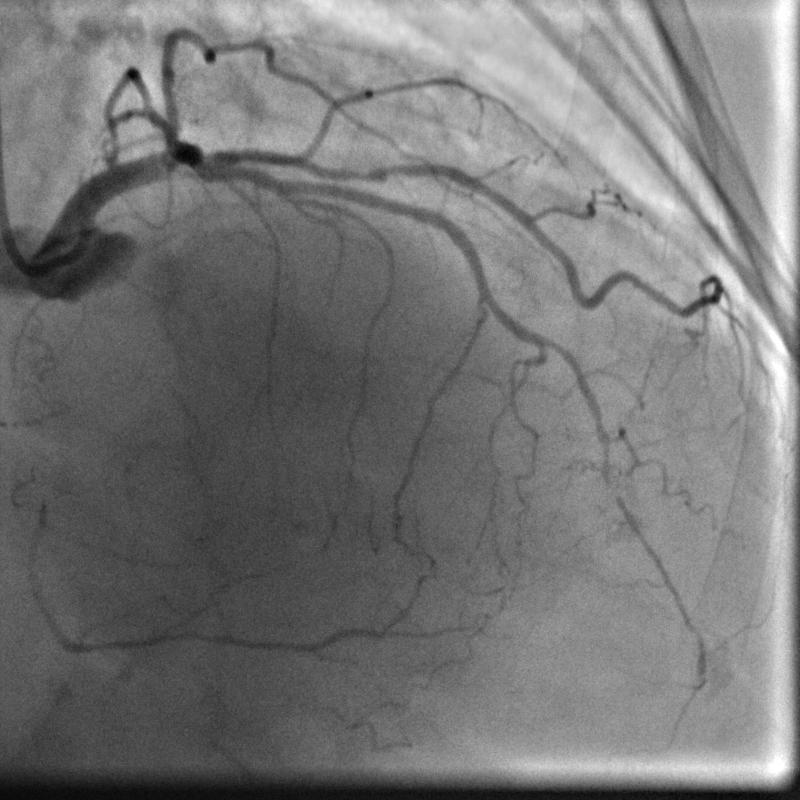Stenosis: (338, 155, 425, 188)
